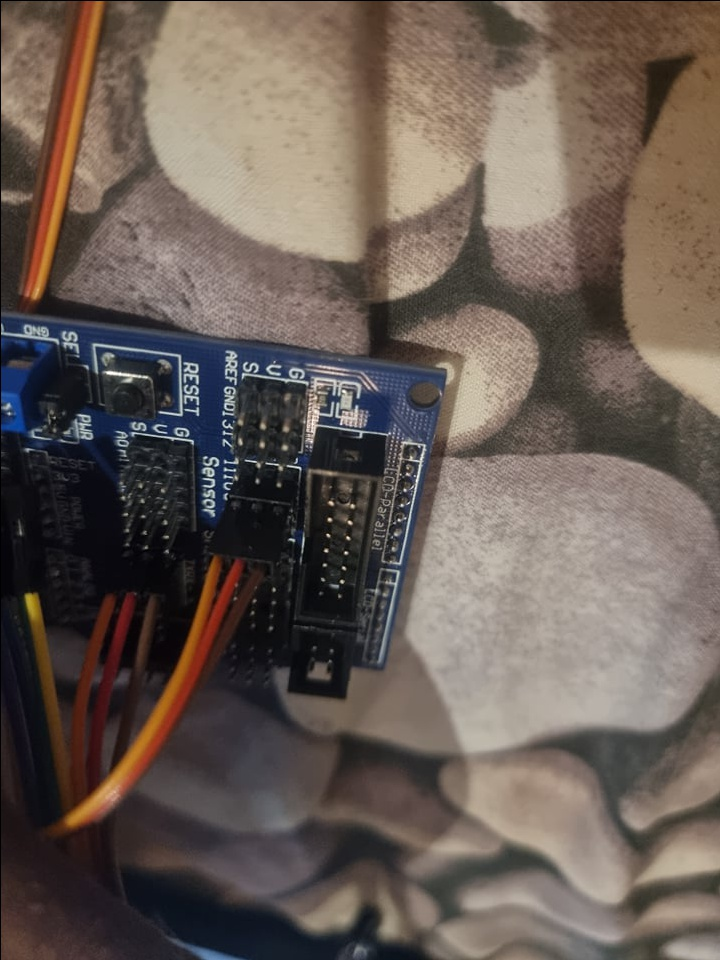5V EXPANSION: (0, 315, 449, 701)
